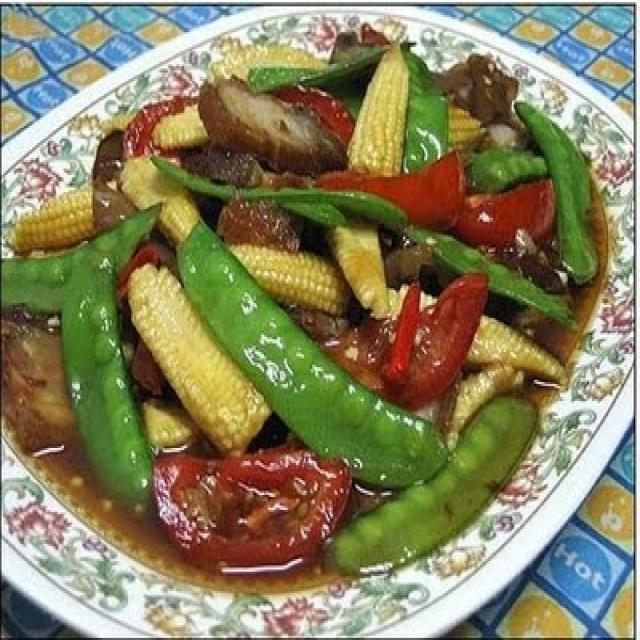蔬菜料理: (21, 23, 602, 591)
